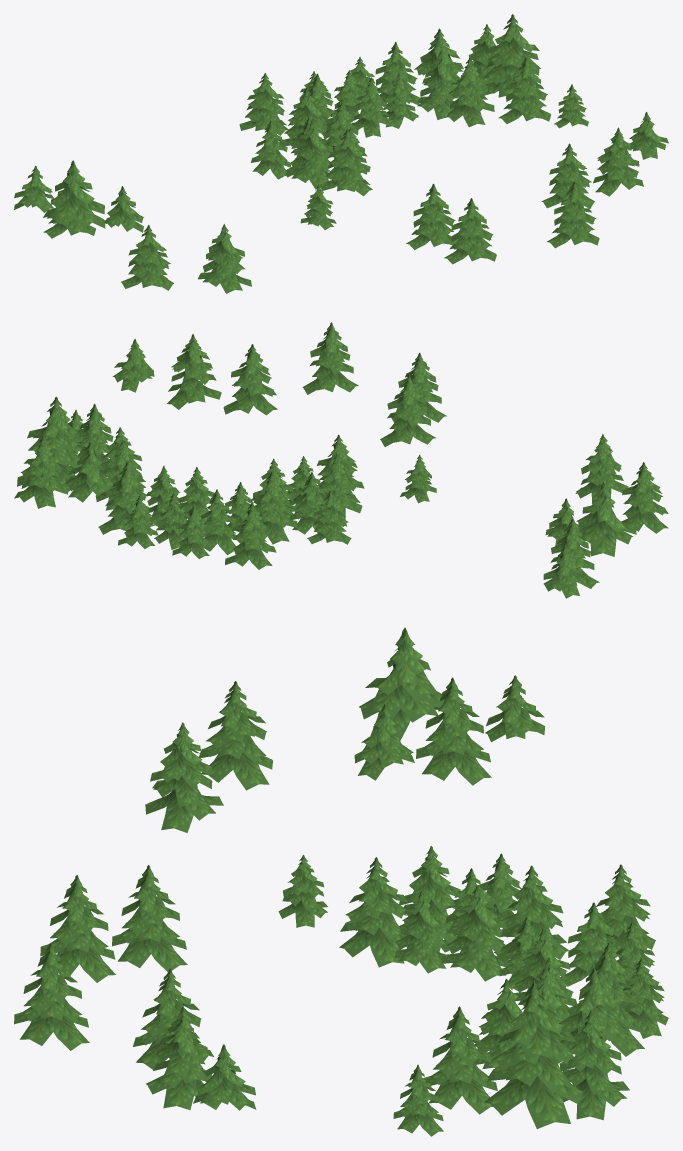
Rendered from songshuye_08.FBX.
3 renders of one model, top to bottom at view 1: azimuth 30°, elevation 25°; view 2: azimuth 150°, elevation 25°; view 3: azimuth 270°, elevation 25°, orthographic. The views are drawn at different scales.
Visible parts, largest first — view 1: Object038; view 2: Object038; view 3: Object038.
Part boxes in pixels (x1,y1,x2,y2): Object038: [14, 14, 668, 293]; Object038: [14, 322, 668, 598]; Object038: [14, 627, 668, 1136].
Bounding box in the file's own units: 5050 × 800 × 3471.
